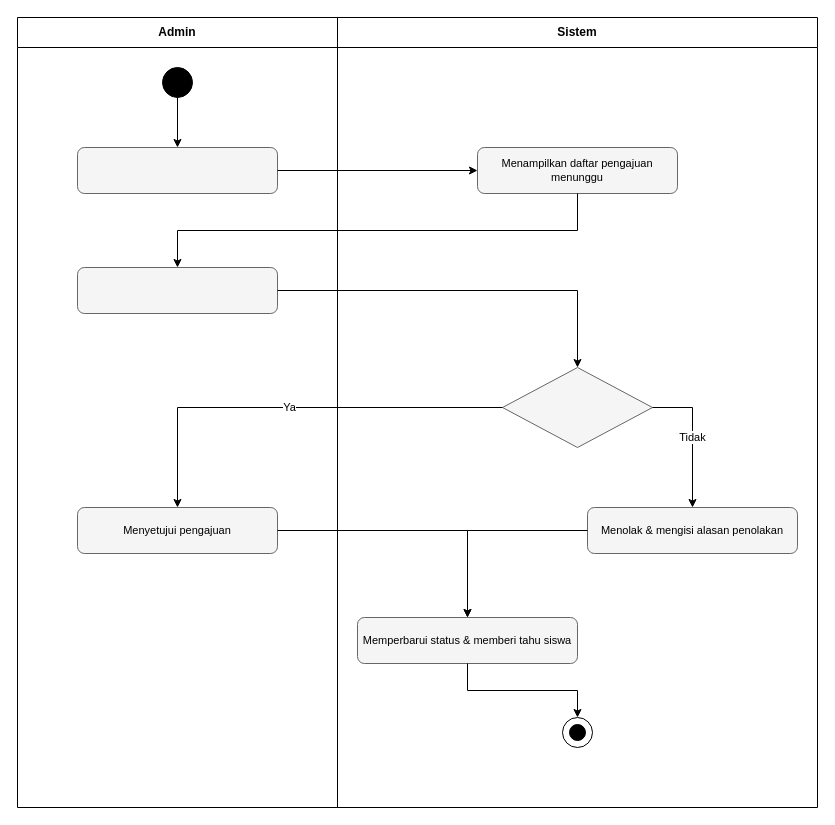
The diagram is 835 pixels wide and 825 high, and some of its shapes have lost their labels. The centre of each missing label's shape, as x and y in pixels:
Membuka menu Peminjaman: (177,170)
Memeriksa detail pengajuan: (177,290)
Setujui pengajuan?: (577,407)
